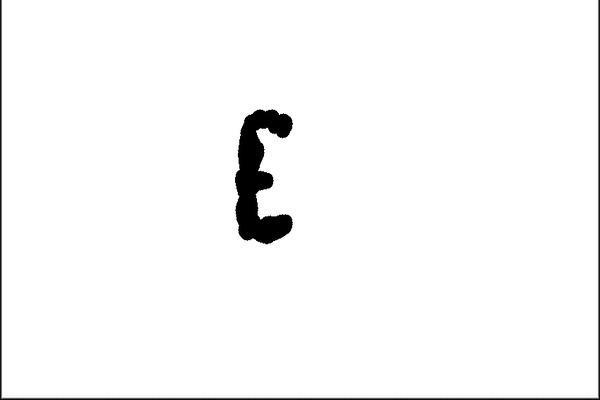E: (229, 104, 310, 253)
